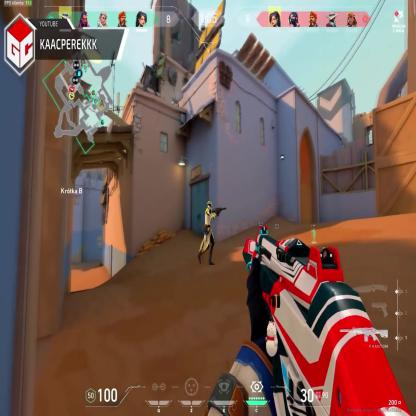enemy: (198, 198, 215, 264)
enemy_head: (207, 201, 212, 210)
